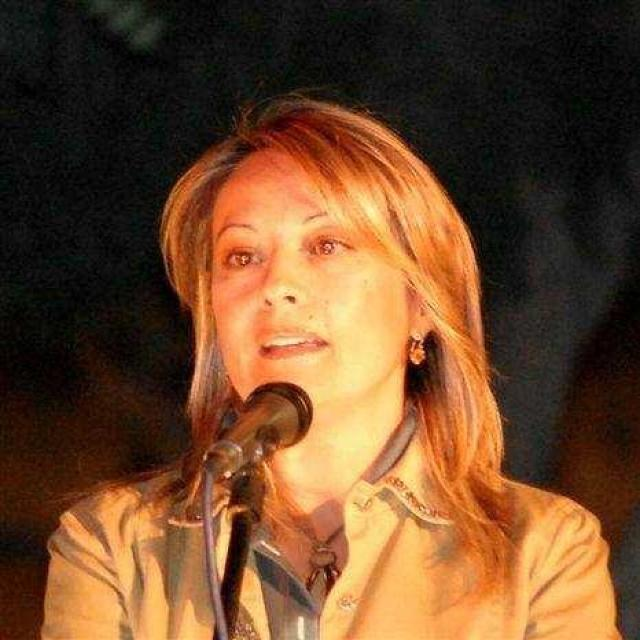microphone: (191, 379, 317, 635)
